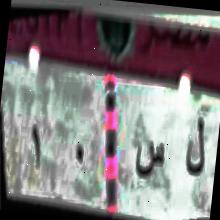0: (71, 134, 88, 169)
1: (24, 117, 48, 169)
laam: (180, 112, 212, 182)
seen: (131, 134, 166, 182)
